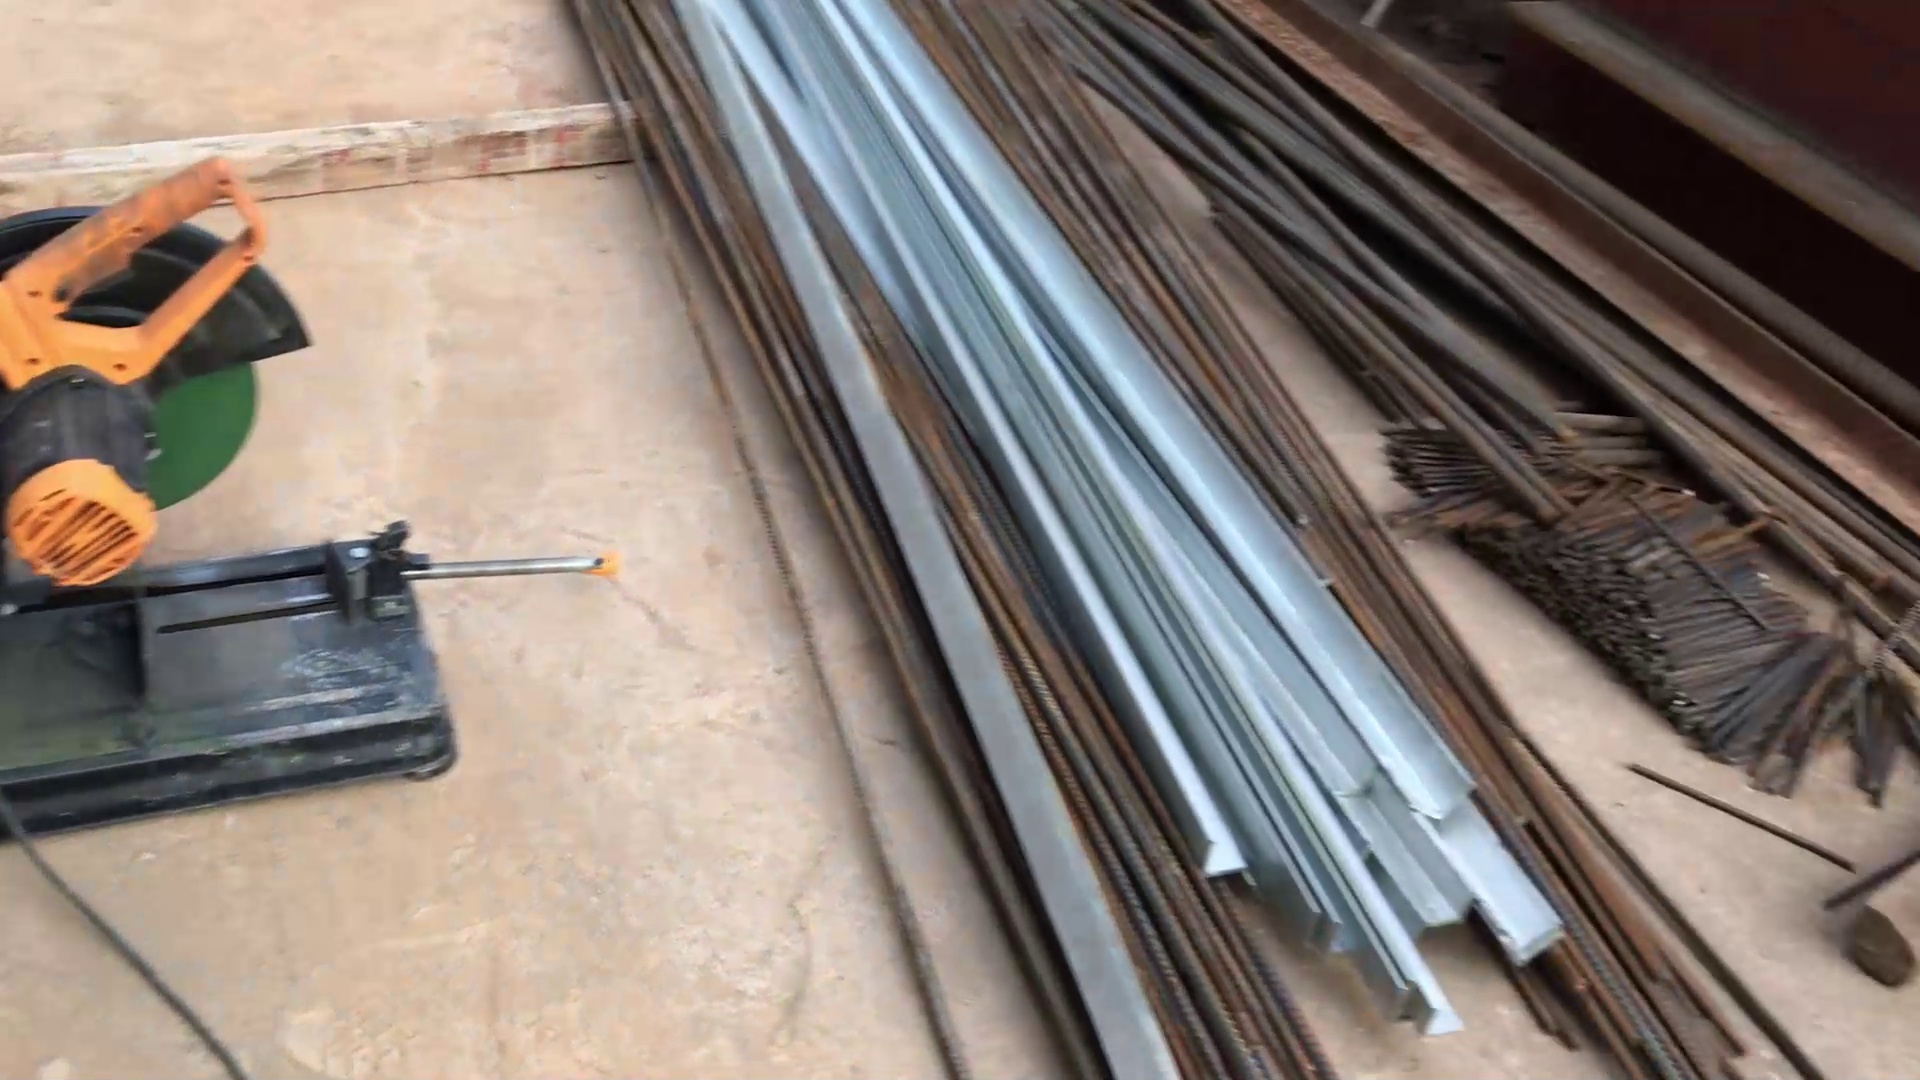cutter: (1, 145, 632, 864)
